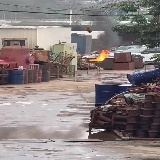fire: (88, 49, 110, 61)
